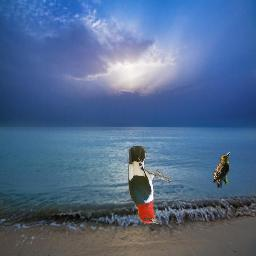Woodpecker: (127, 146, 171, 224), (214, 152, 231, 189)
